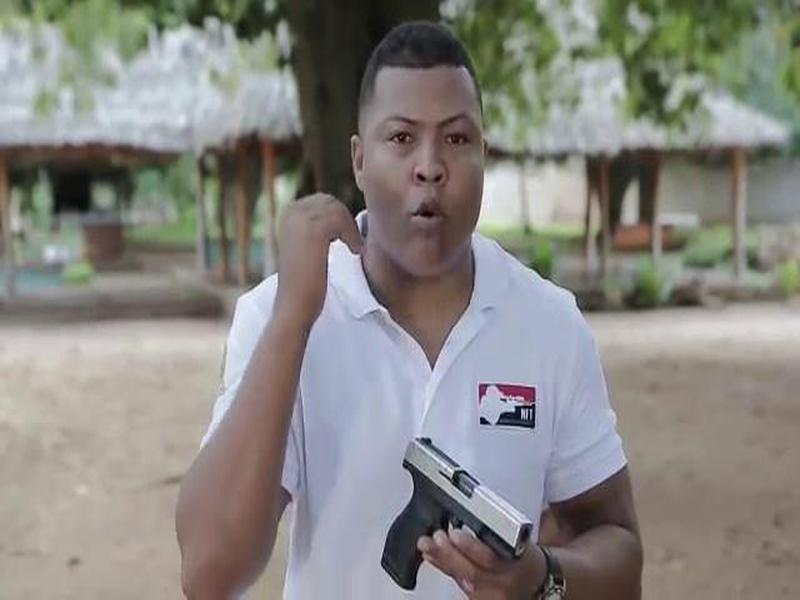Pistola: (356, 420, 566, 600)
